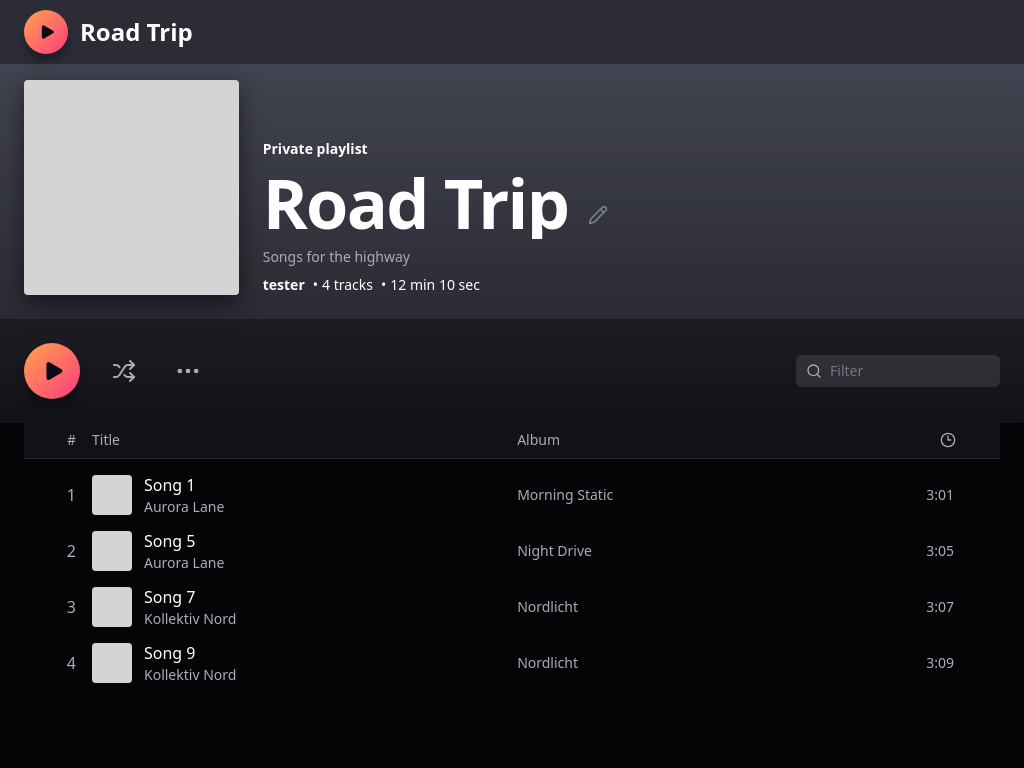
PlaylistPage › filters tracks inside the playlist
Expected: the text "Song 1" is shown, [144, 474, 196, 496]
Type "Song 9" into the field named "Filter within playlist".
click(910, 371); type("Song 9")  # box [830, 361, 990, 381]
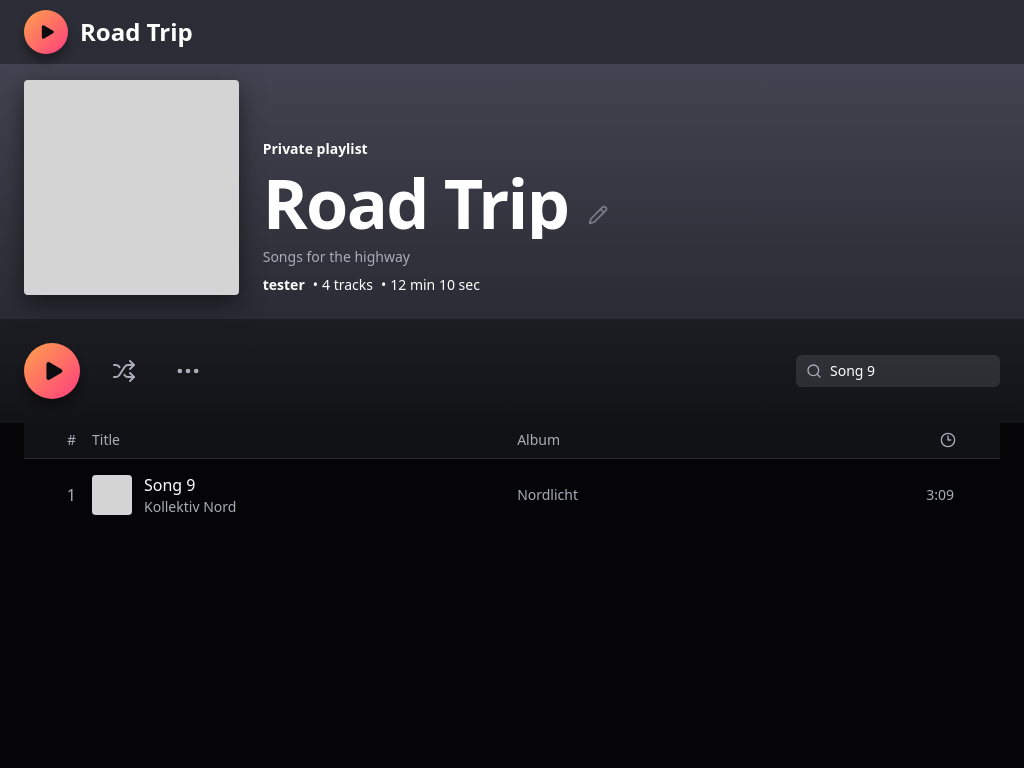
Expected: the text "Song 9" is shown, [144, 474, 196, 496]
Now the text "Song 1" is gone
